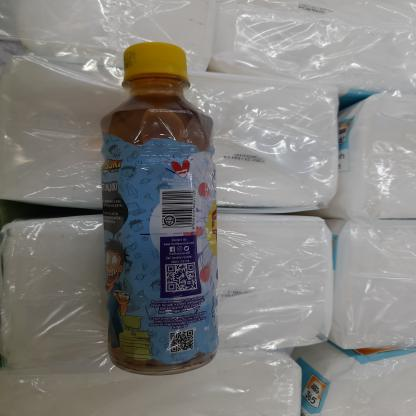bottle: (97, 40, 223, 378)
